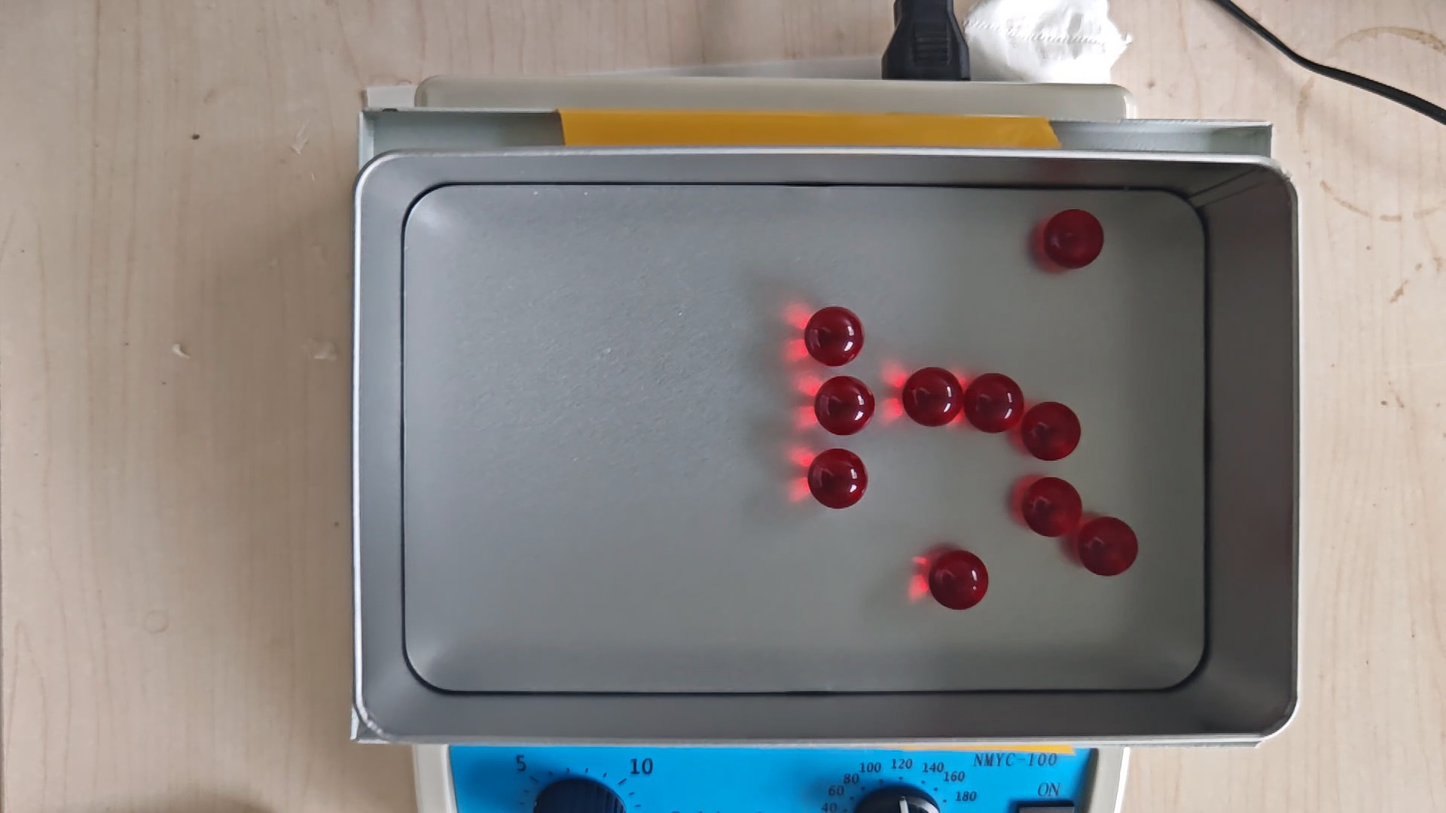ball: (902, 367, 963, 429), (928, 549, 989, 611), (1078, 515, 1138, 578), (808, 448, 869, 509), (1023, 476, 1083, 538), (966, 372, 1025, 435), (805, 306, 865, 367), (1045, 208, 1104, 270), (815, 375, 874, 436), (1022, 402, 1081, 462)
container: (402, 184, 1207, 693)
